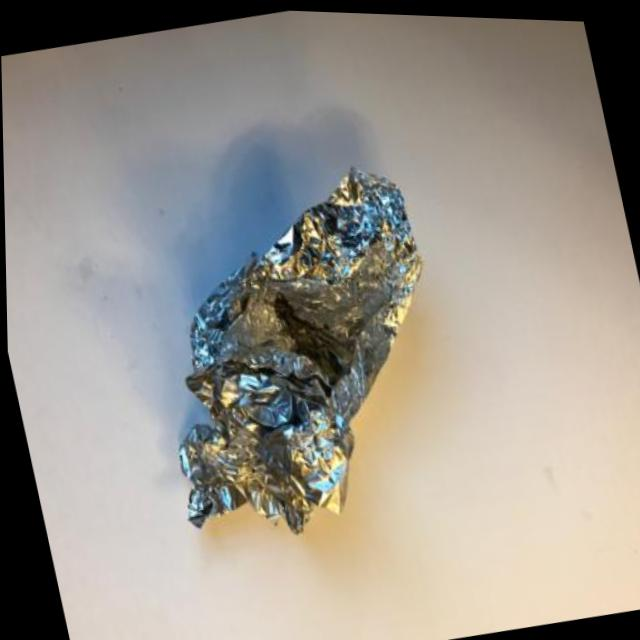metal: (96, 104, 549, 589)
